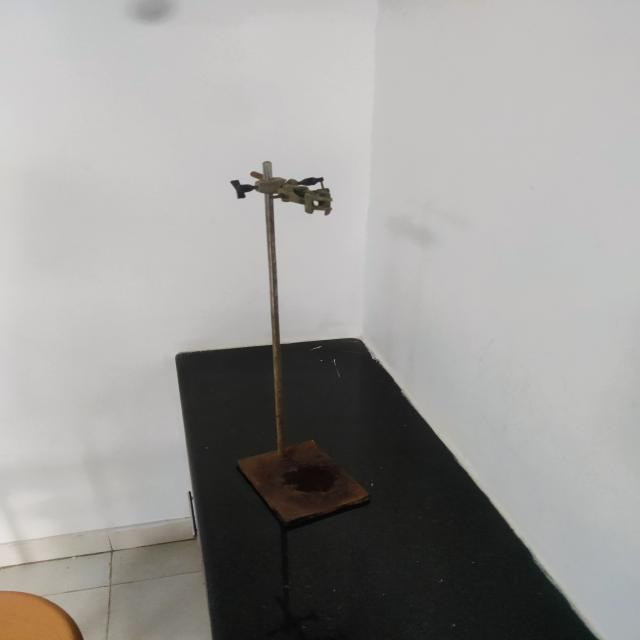Burette_Stands: (198, 147, 428, 542)
